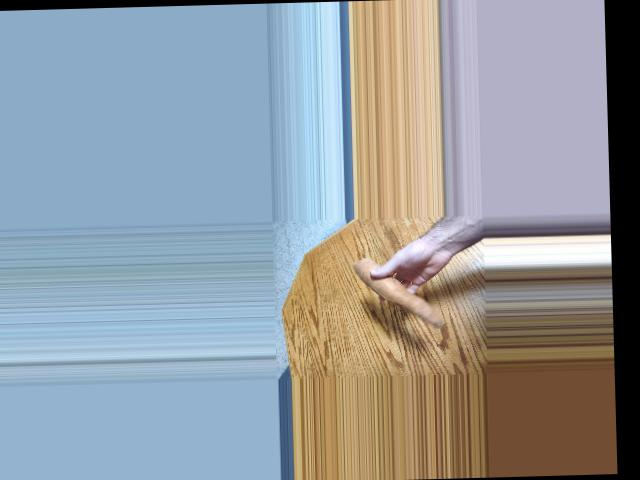sweet_potato: (361, 254, 443, 327)
